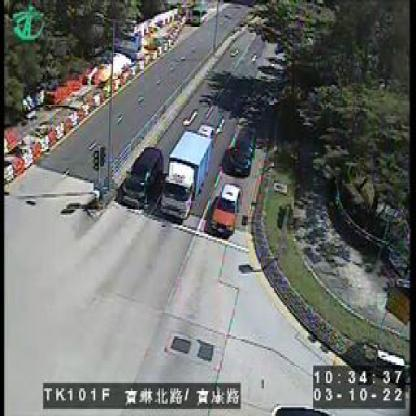Car: (121, 148, 160, 200), (208, 182, 242, 232), (229, 123, 256, 172)
Truck: (159, 132, 209, 218)
